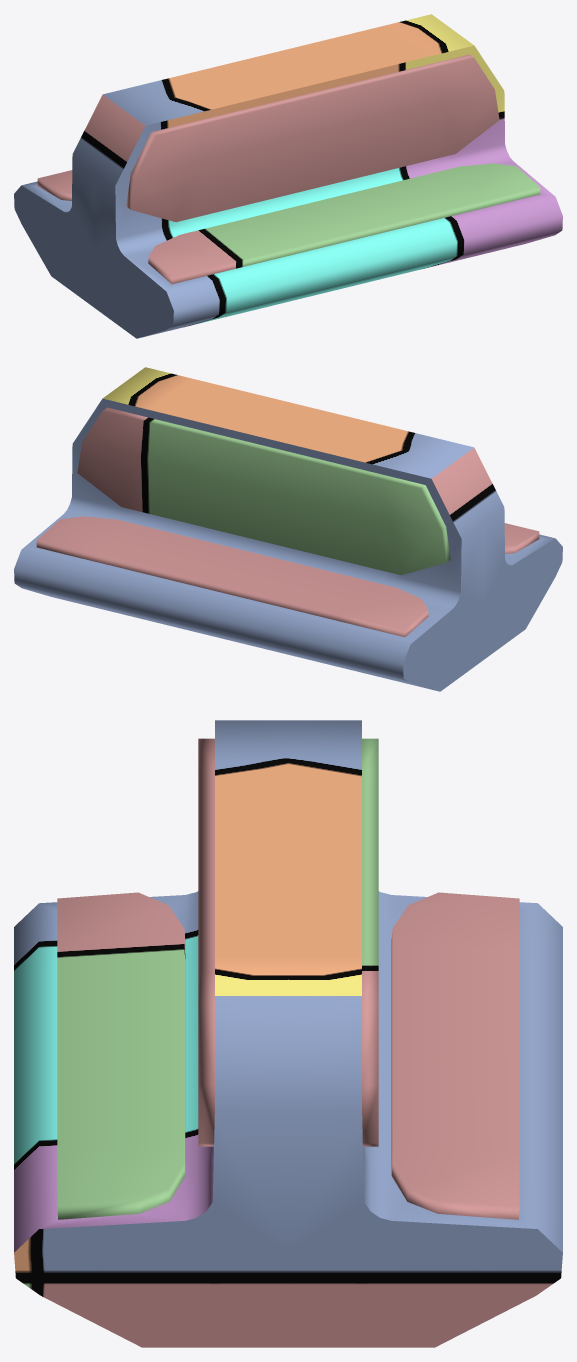
File: BenchNoMonitor.fbx
The picture shows the model from 3 angles, top to bottom: view 1: azimuth 30°, elevation 25°; view 2: azimuth 150°, elevation 25°; view 3: azimuth 270°, elevation 25°; orthographic projection. The views are drawn at different scales.
Parts seen in each view (by area): view 1: Bench01_Body; view 2: Bench01_Body; view 3: Bench01_Body.
Part boxes in pixels (box(x1,y1,x2,y2)): Bench01_Body: box(14, 14, 562, 338); Bench01_Body: box(14, 367, 562, 691); Bench01_Body: box(14, 720, 562, 1347).
Bounding box in the file's own units: 237 × 111 × 169.
